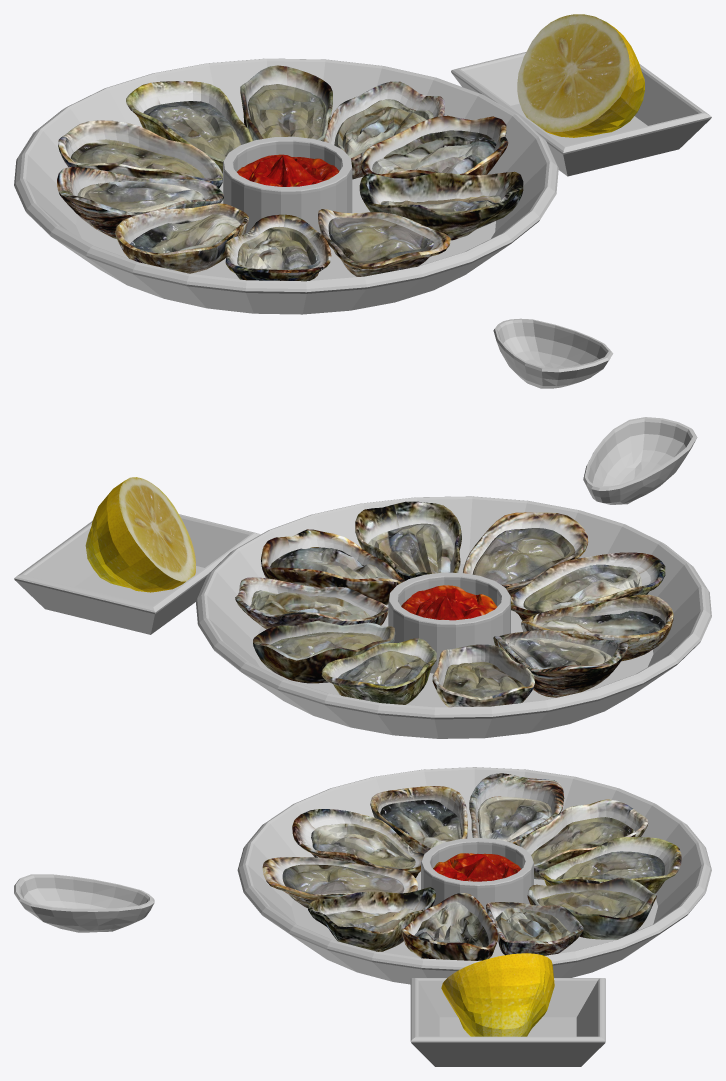
Rendered from Fresh Oysters.dae.
3 renders of one model, top to bottom at view 1: azimuth 30°, elevation 25°; view 2: azimuth 150°, elevation 25°; view 3: azimuth 270°, elevation 25°, orthographic. The views are drawn at different scales.
Visible parts, largest first — view 1: Oysters___, Plate, Box001; view 2: Oysters___, Plate, Box001; view 3: Oysters___, Plate, Box001.
Part boxes in pixels (x1,y1,x2,y2): Oysters___: (57,14,644,281); Plate: (14,52,711,314); Box001: (493,318,613,388); Oysters___: (85,477,673,707); Plate: (14,496,711,738); Box001: (583,417,697,504); Oysters___: (262,773,681,1036); Plate: (237,767,711,1066); Box001: (14,874,154,932).
Bounding box in the file's own units: 396 × 69.33 × 441.
